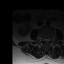CCS_normal: (46, 37, 48, 43)
LFS_normal: (49, 36, 51, 42)
LLS_normal: (48, 36, 49, 42)
RFS_normal: (41, 36, 44, 42)
RLS_normal: (44, 36, 46, 43)
